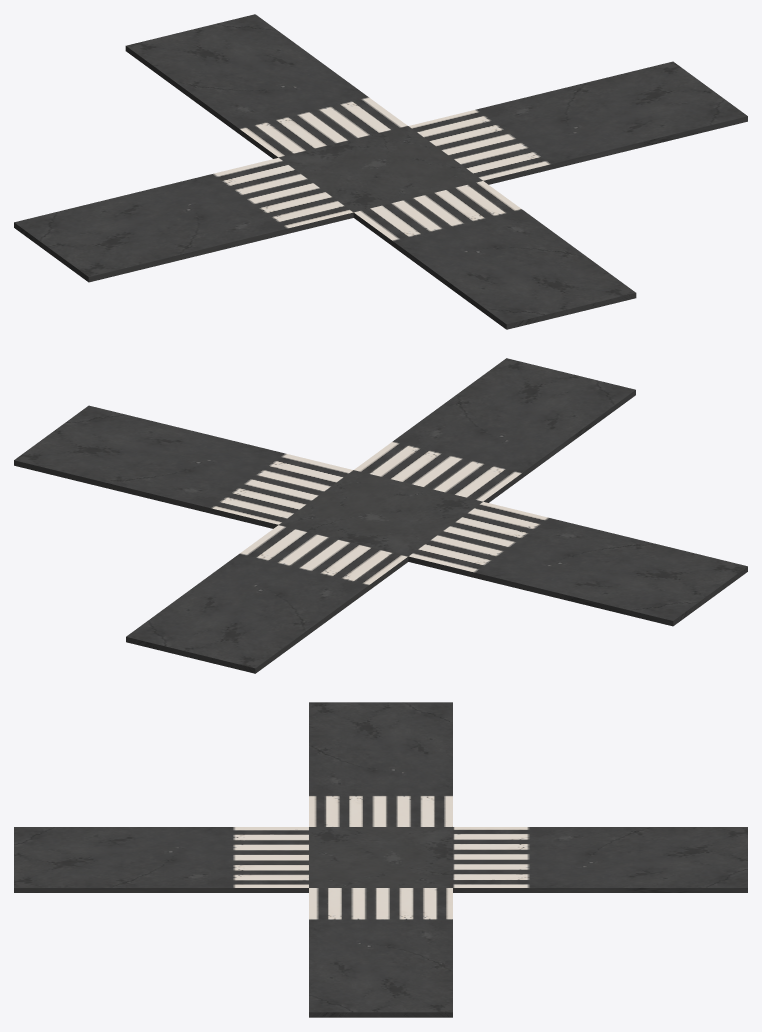
Rendered from tek şeritli yol ( 4 kavşaklı hali ).fbx.
The picture shows the model from 3 angles, top to bottom: view 1: azimuth 30°, elevation 25°; view 2: azimuth 150°, elevation 25°; view 3: azimuth 270°, elevation 25°; orthographic projection. The views are drawn at different scales.
Visible parts, largest first — view 1: Plane; view 2: Plane; view 3: Plane.
Boxes of the visible parts, x1,y1,x2,y2 form: Plane: [14, 14, 747, 329]; Plane: [14, 358, 747, 673]; Plane: [14, 702, 747, 1017].
Bounding box in the file's own units: 8671 × 68.11 × 8673.
Materials: 1 (1 with a texture image).
